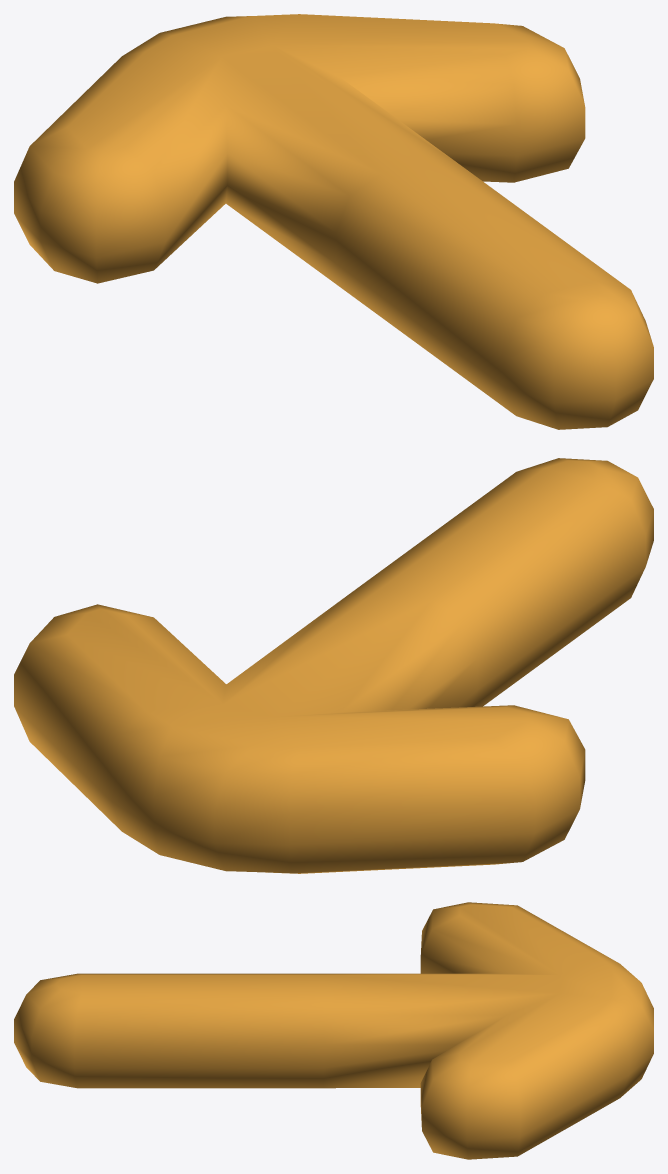
File: arrow.fbx
3 views of the same model, one above another, from view 1: azimuth 30°, elevation 25°; view 2: azimuth 150°, elevation 25°; view 3: azimuth 270°, elevation 25° (orthographic). The views are drawn at different scales.
Parts seen in each view (by area): view 1: Plane; view 2: Plane; view 3: Plane.
Part boxes in pixels (x1,y1,x2,y2): Plane: (14, 14, 653, 429); Plane: (14, 458, 653, 873); Plane: (14, 902, 653, 1159).
Size of the model in its own units: 144 by 32.2 by 200.
